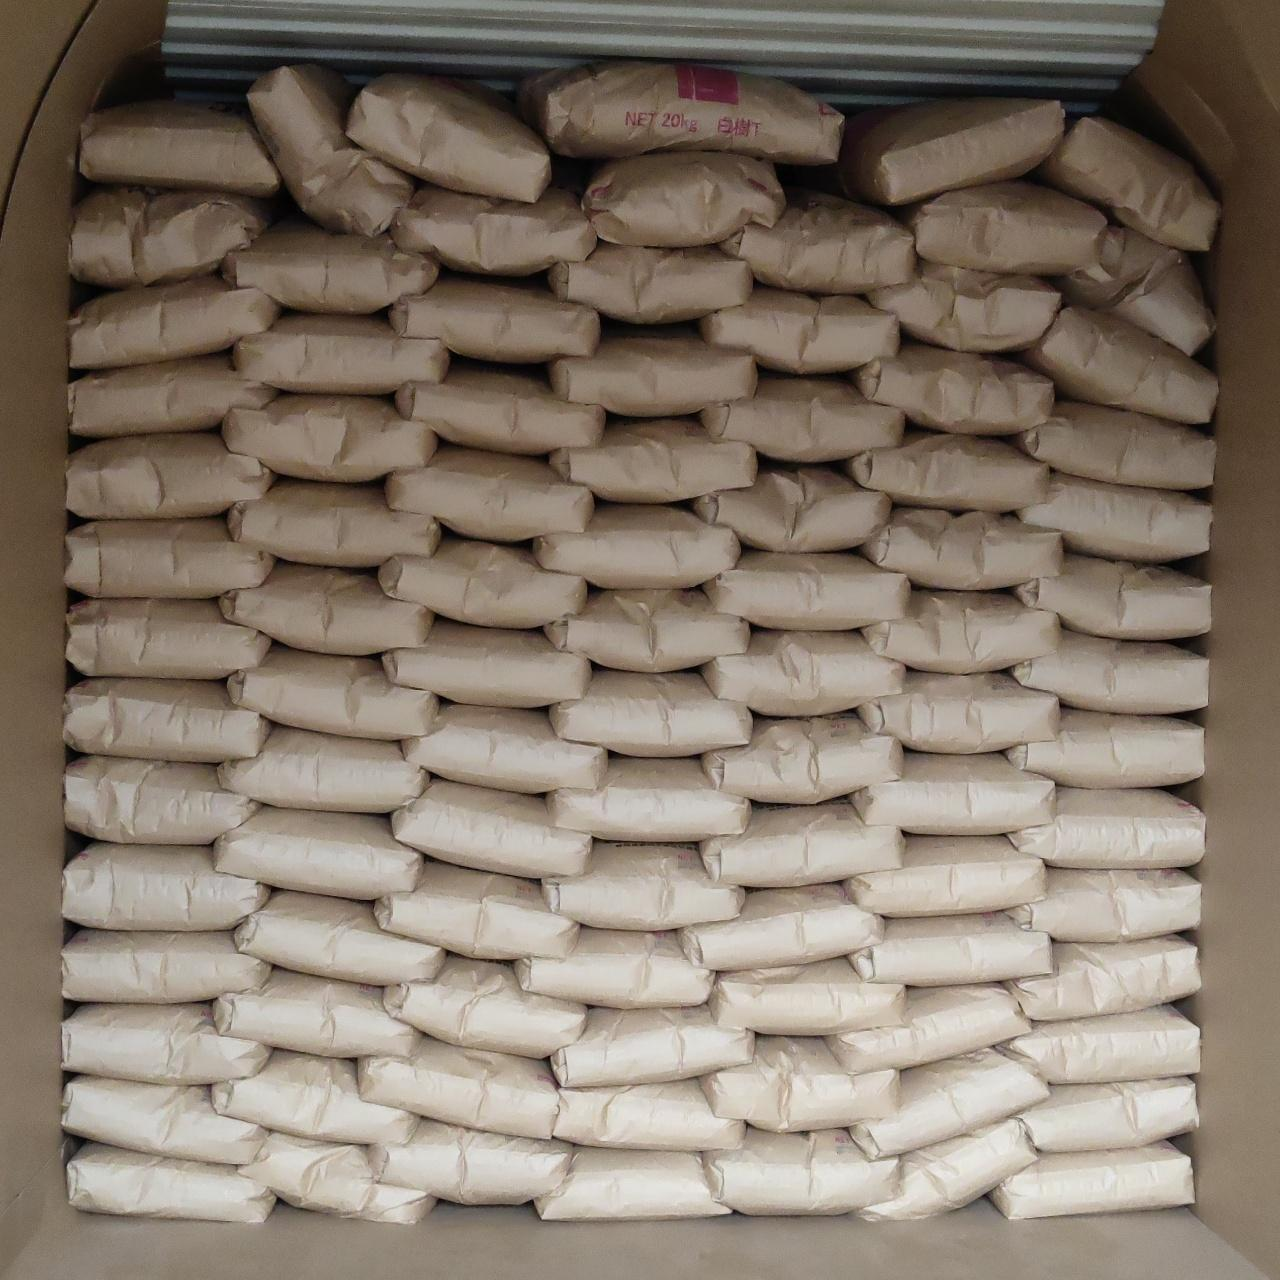sack: (520, 60, 842, 162), (250, 64, 412, 232), (350, 74, 548, 198), (1036, 116, 1218, 250), (838, 100, 1062, 206), (1018, 308, 1216, 422), (852, 1050, 1046, 1158), (1056, 222, 1212, 350), (224, 218, 438, 310), (70, 188, 270, 286), (386, 444, 590, 540), (722, 190, 914, 292), (396, 360, 604, 454), (900, 180, 1108, 274), (386, 956, 584, 1054), (220, 562, 430, 654), (228, 646, 436, 738), (376, 862, 574, 958), (360, 1038, 558, 1134), (80, 100, 278, 196), (72, 274, 278, 366), (394, 780, 590, 876), (548, 324, 756, 414), (236, 892, 444, 982), (584, 152, 782, 246), (850, 340, 1052, 432), (216, 808, 422, 898), (380, 536, 584, 626), (390, 274, 598, 362), (392, 184, 594, 274), (228, 480, 438, 566), (214, 1052, 414, 1142), (220, 726, 428, 812), (224, 394, 436, 478), (64, 1076, 264, 1164), (1010, 400, 1214, 486), (700, 800, 902, 886), (68, 434, 274, 518), (384, 620, 590, 704), (868, 260, 1060, 350), (856, 1122, 1036, 1218), (702, 374, 902, 460), (404, 704, 604, 790), (828, 984, 1028, 1070), (704, 1038, 894, 1128), (702, 714, 900, 800), (700, 286, 898, 372), (214, 970, 416, 1054), (242, 1134, 434, 1222), (550, 418, 756, 500), (70, 354, 276, 436), (692, 464, 888, 550), (702, 630, 902, 714), (372, 1120, 572, 1204), (64, 844, 268, 926), (66, 756, 256, 844), (552, 670, 750, 754), (544, 842, 742, 926), (1012, 554, 1210, 638), (548, 756, 750, 838), (844, 428, 1046, 510), (1018, 472, 1210, 558), (62, 1004, 268, 1084), (680, 884, 880, 966), (704, 1128, 894, 1214), (534, 506, 738, 586), (546, 590, 748, 670), (66, 678, 268, 758), (234, 314, 446, 390), (860, 508, 1060, 588), (66, 518, 270, 596), (846, 836, 1044, 916), (852, 752, 1054, 830), (548, 244, 750, 322), (68, 600, 270, 678), (706, 550, 908, 628), (1006, 708, 1202, 788), (864, 590, 1060, 670), (858, 672, 1058, 750), (1008, 936, 1198, 1018), (1012, 630, 1206, 710), (68, 1144, 272, 1220), (552, 1008, 750, 1086), (516, 928, 710, 1006), (992, 1142, 1190, 1218), (62, 930, 270, 1002), (998, 1006, 1198, 1080), (1010, 788, 1204, 864), (710, 958, 902, 1034), (1008, 868, 1198, 940), (852, 914, 1050, 982), (1014, 1078, 1198, 1150), (538, 1148, 726, 1218), (556, 1080, 742, 1150)
